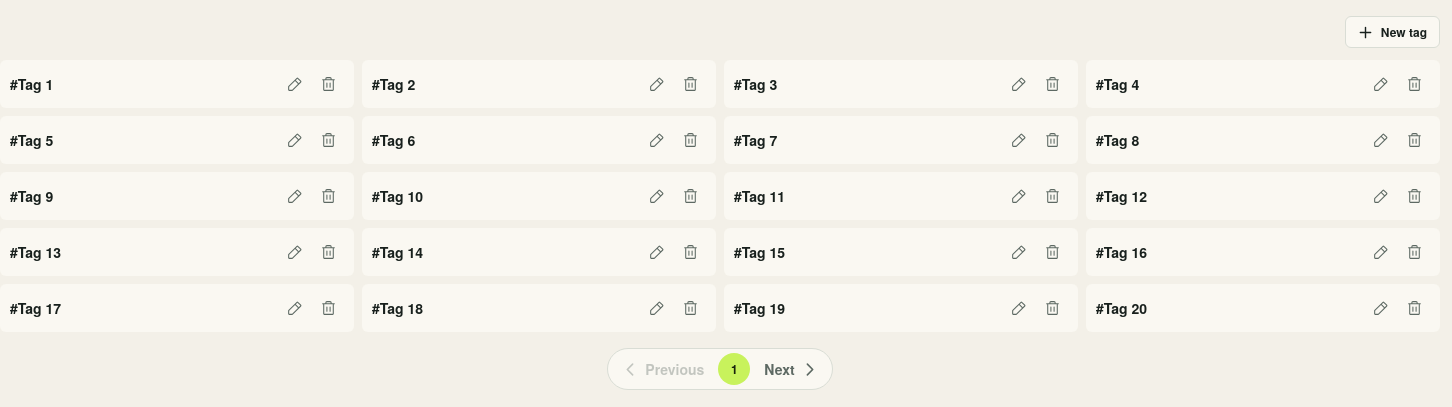
Tag management panel › shows a four-by-five page of tags and paginates the remainder
Expected: the text "#Tag 1" is shown, [10,74,53,94]
Expected: the text "#Tag 21" is not shown
Step 1. Click the button with aria-label "Next Tags page" → (791, 369), box [754,353,828,385]
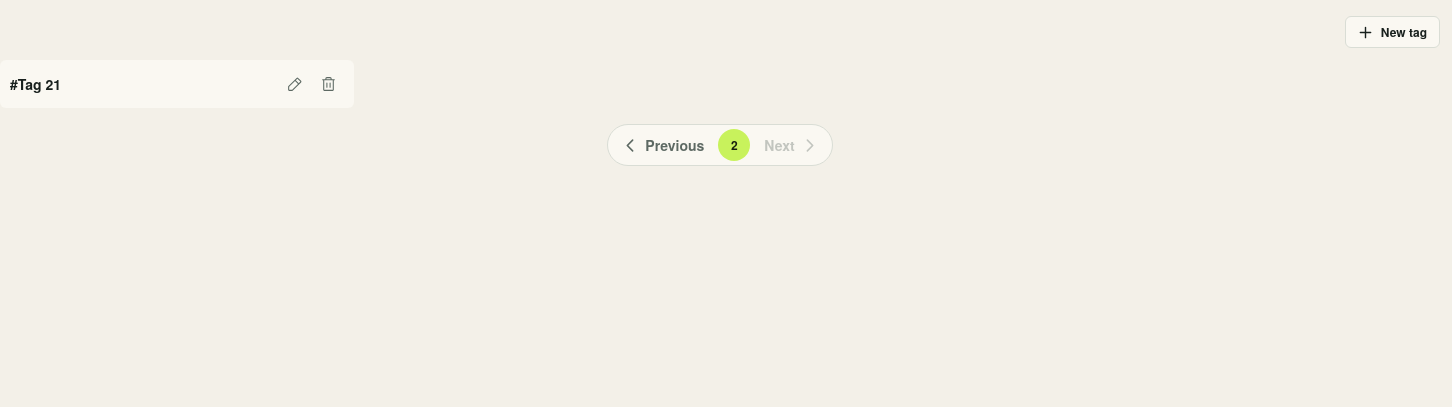
Result: the number of list items is 1 at [0,60,354,108]
Result: the text "#Tag 21" is shown at [10,74,61,94]
Result: the text "#Tag 1" is gone
